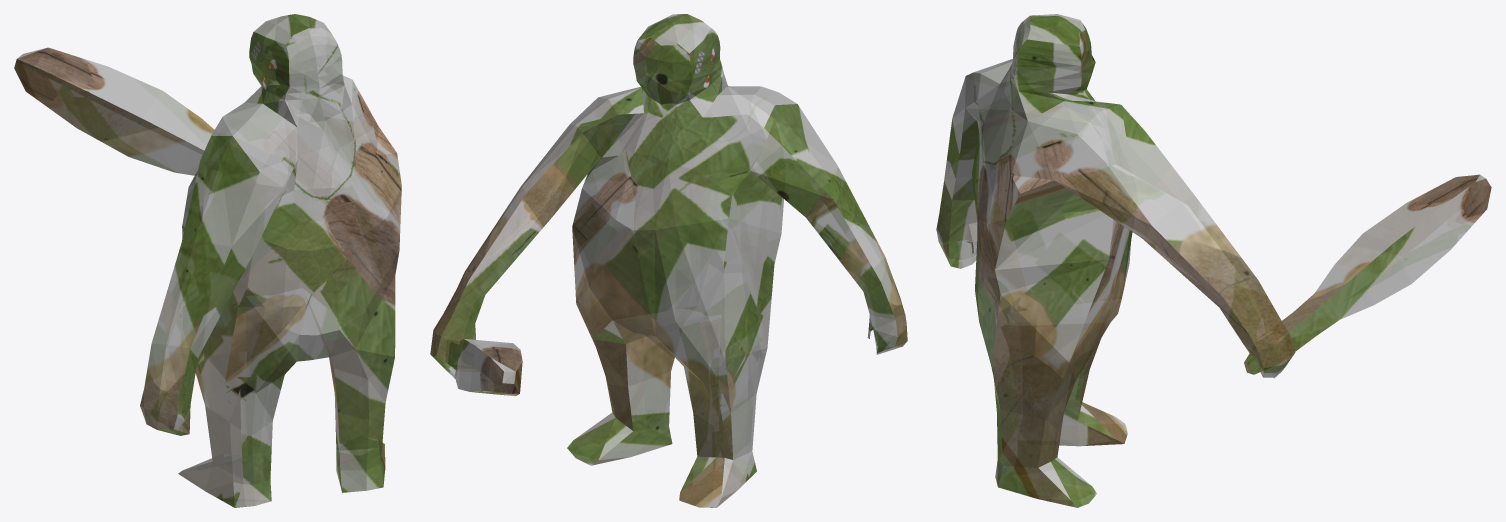
Rendered from Enemigo220.obj.
3 renders of one model, left to right at view 1: azimuth 30°, elevation 25°; view 2: azimuth 150°, elevation 25°; view 3: azimuth 270°, elevation 25°, orthographic. The views are drawn at different scales.
Parts seen in each view (by area): view 1: Cube; view 2: Cube; view 3: Cube.
Part boxes in pixels (<box>): Cube: <box>14,14,401,507</box>; Cube: <box>430,14,907,507</box>; Cube: <box>936,14,1491,507</box>.
Size of the model in its own units: 2.04 by 2.7 by 3.03.
Materials: 1 (1 with a texture image).
